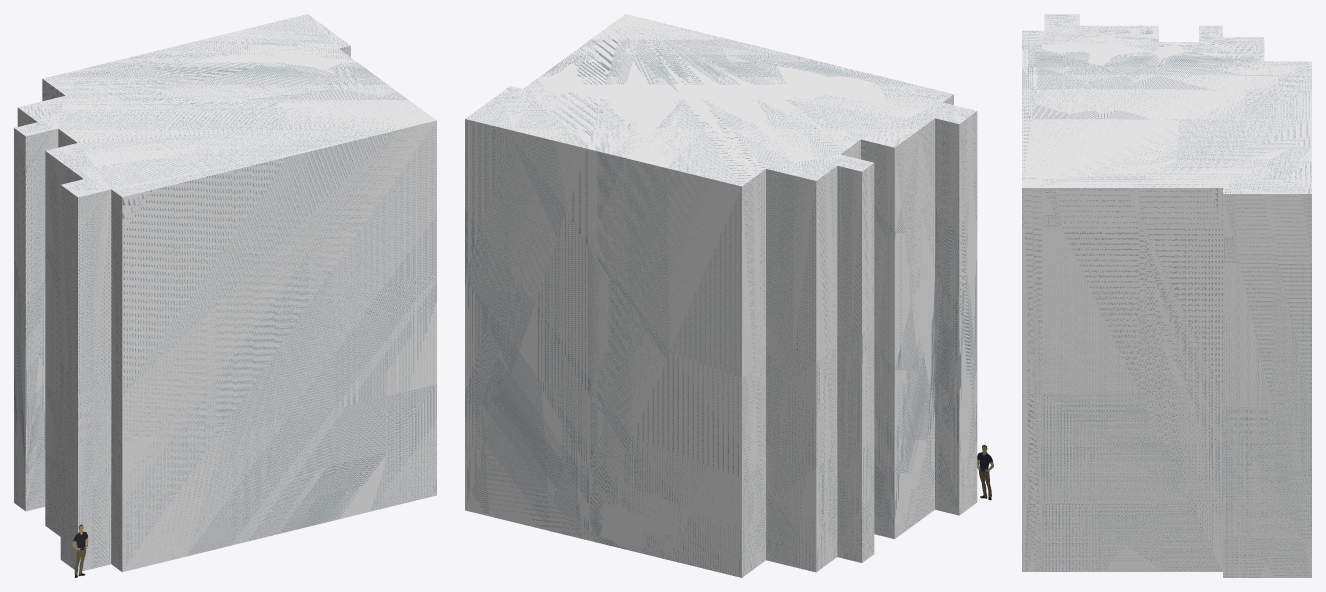
File: Library.dae
3 renders of one model, left to right at view 1: azimuth 30°, elevation 25°; view 2: azimuth 150°, elevation 25°; view 3: azimuth 270°, elevation 25°, orthographic. The views are drawn at different scales.
Visible parts, largest first — view 1: SketchUp; view 2: SketchUp; view 3: SketchUp.
Part boxes in pixels (<box>): SketchUp: <box>14,14,436,572</box>; SketchUp: <box>465,14,977,577</box>; SketchUp: <box>1022,14,1311,577</box>.
Bounding box in the file's own units: 520 × 344 × 503.
